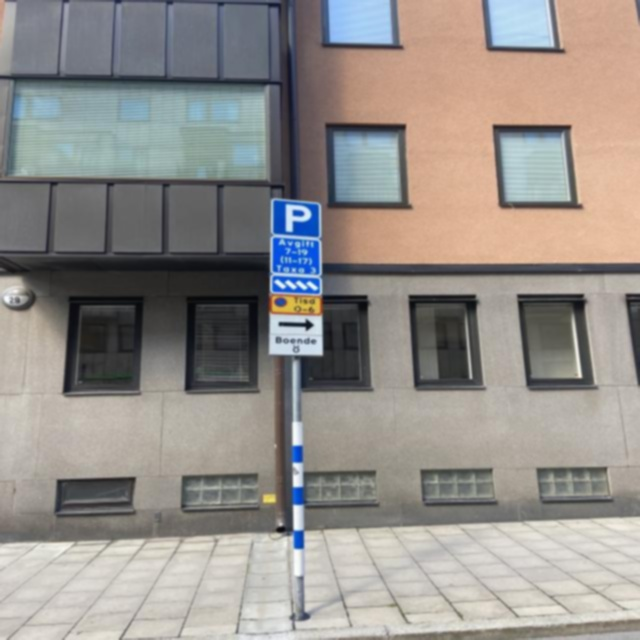P-skylt: (271, 198, 322, 239)
